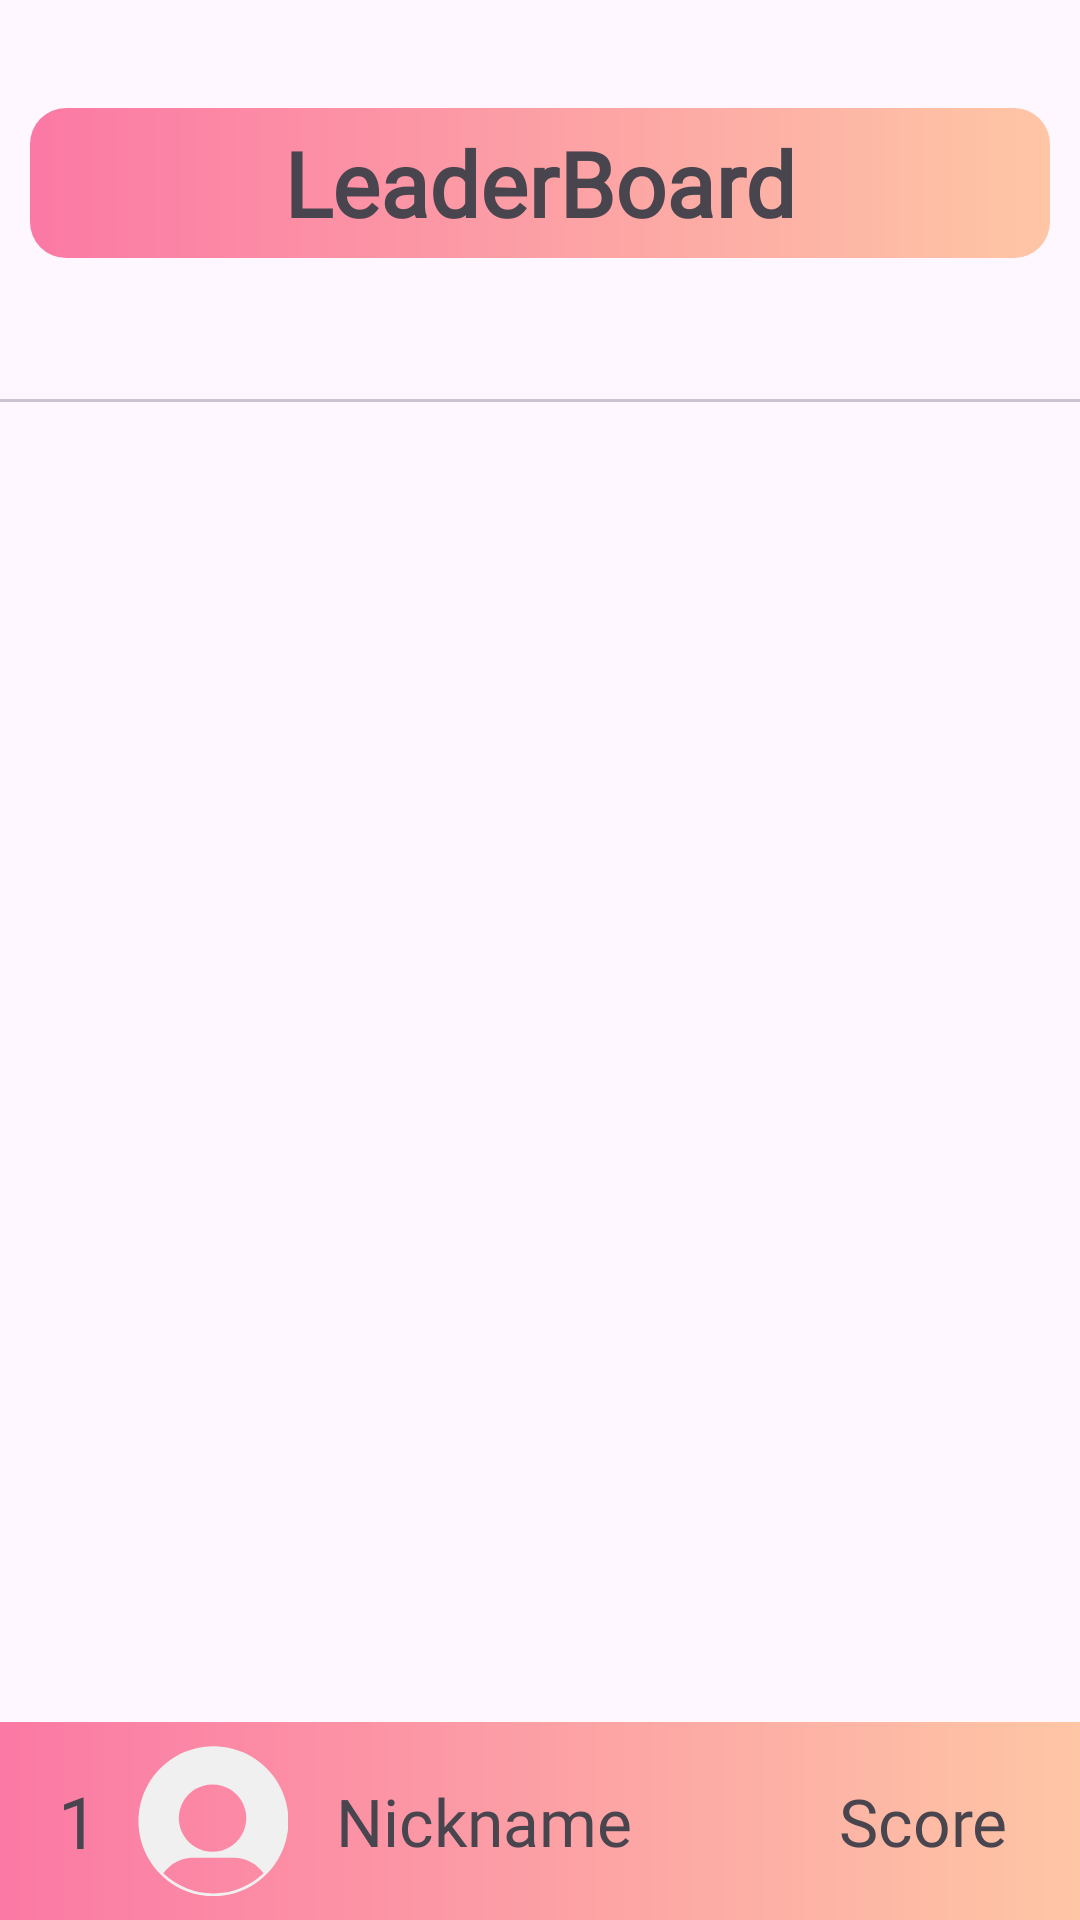

Icon bounding boxes for this 1080w x 1920h phone screenshot, format (x1, y1, x2, y2):
profile: (138, 1746, 288, 1896)
